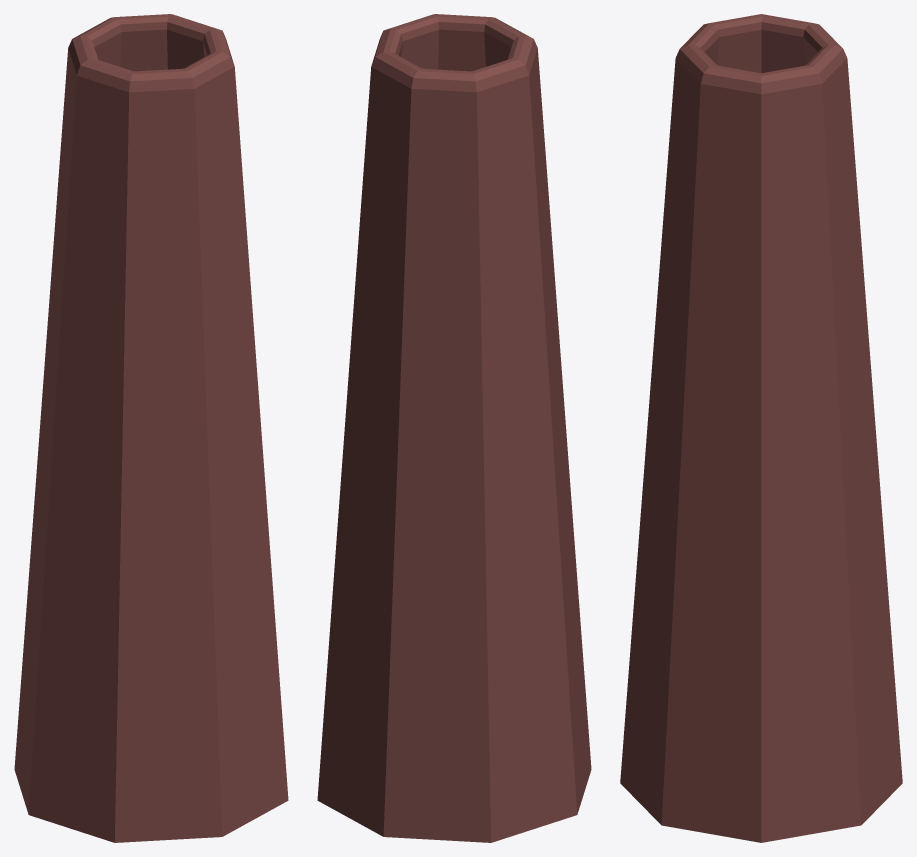
The model's file is Vaso2.fbx.
3 views of the same model, side by side, from view 1: azimuth 30°, elevation 25°; view 2: azimuth 150°, elevation 25°; view 3: azimuth 270°, elevation 25° (orthographic).
Visible parts, largest first — view 1: Vaso3; view 2: Vaso3; view 3: Vaso3.
Part boxes in pixels (x1,y1,x2,y2): Vaso3: (14, 14, 288, 842); Vaso3: (317, 14, 591, 842); Vaso3: (620, 14, 902, 842).
Bounding box in the file's own units: 0.1039 × 0.2994 × 0.1039.
